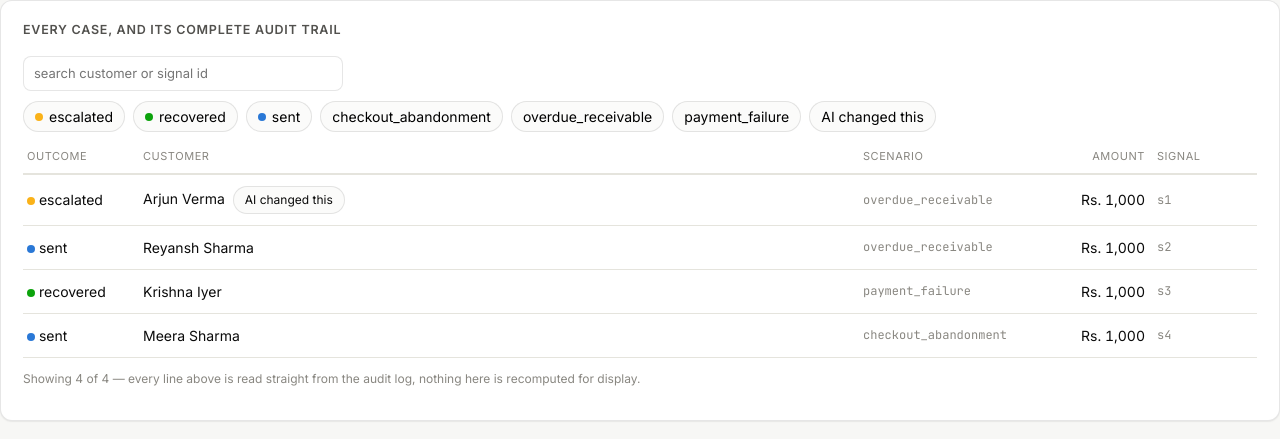
Test case: CaseList › filters by customer name, case-insensitively
Type "sharma" into the search field named "search cases" at (183, 74), box top-left (23, 56), bottom-right (343, 91)
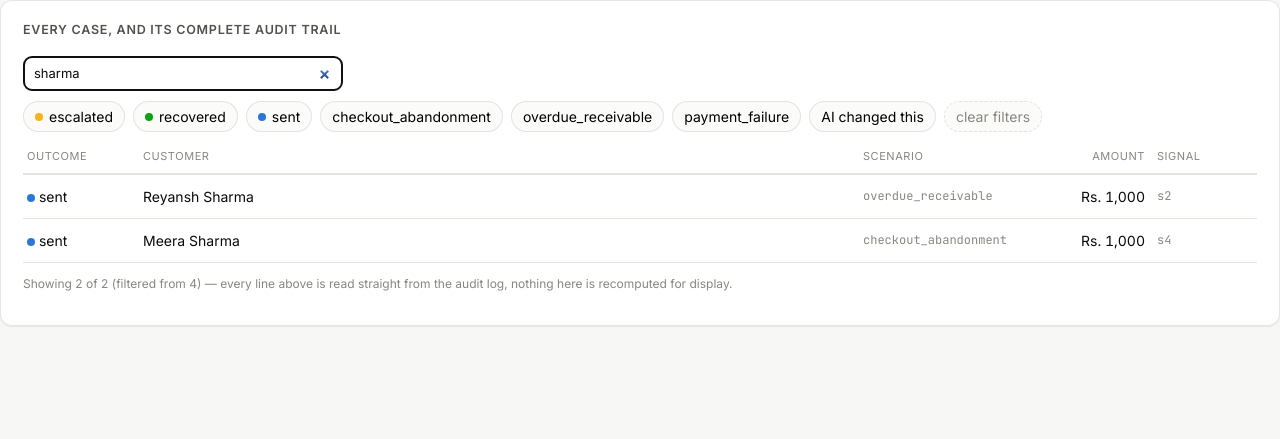
Expected: the text "Reyansh Sharma" is shown, top-left (143, 188), bottom-right (254, 205)
Result: the button "Arjun Verma" is gone
Result: the button "Krishna Iyer" is gone
